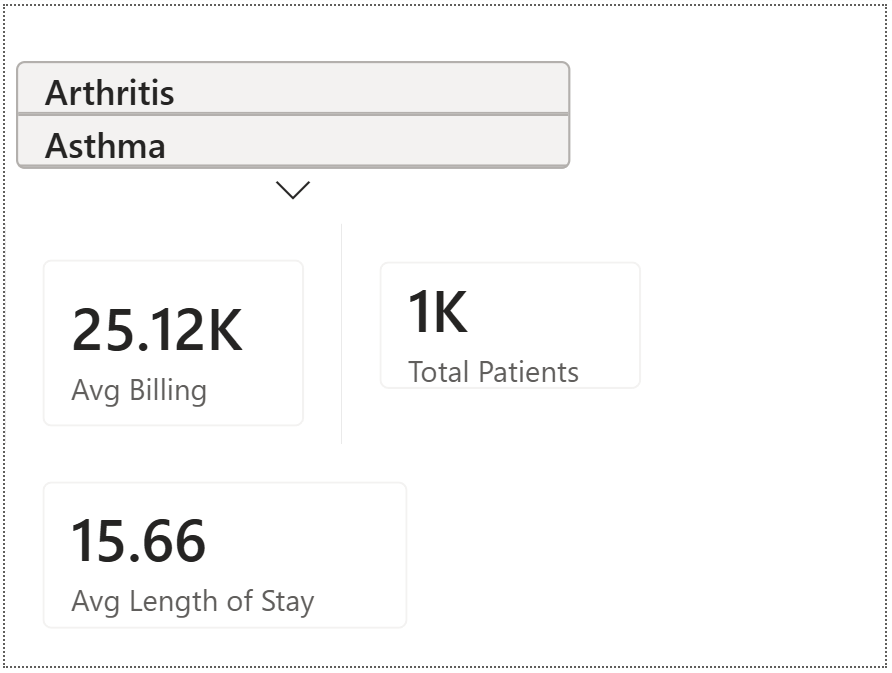

The page's visual inventory and layout, read from the dashboard file:
{"tool":"powerbi","page":{"name":"Tooltip Page","canvas":[400,300],"ordinal":1},"visuals":[{"type":"cardVisual","fields":{"Data":["healthcare_dataset final.Avg Billing"]},"box":[0,98,153,110],"z":0},{"type":"cardVisual","fields":{"Data":["healthcare_dataset final.Total Patients"]},"box":[153,99,153,92],"z":1},{"type":"cardVisual","fields":{"Data":["healthcare_dataset final.Tooltip Title"],"Rows":["healthcare_dataset final.medical_condition"]},"box":[0,0,262,99],"z":2},{"type":"cardVisual","fields":{"Data":["healthcare_dataset final.Avg Length of Stay"]},"box":[0,199,200,101],"z":3}]}

Visuals, with their boxes in screenshot pixels (x1, y1, x2, y2), scaled from the page's 400x300 canvas onto the 892x673 screenshot:
cardVisual - healthcare_dataset final.Avg Billing: bbox=[0, 220, 341, 467]
cardVisual - healthcare_dataset final.Total Patients: bbox=[341, 222, 682, 428]
cardVisual - healthcare_dataset final.Tooltip Title x healthcare_dataset final.medical_condition: bbox=[0, 0, 584, 222]
cardVisual - healthcare_dataset final.Avg Length of Stay: bbox=[0, 446, 446, 672]
